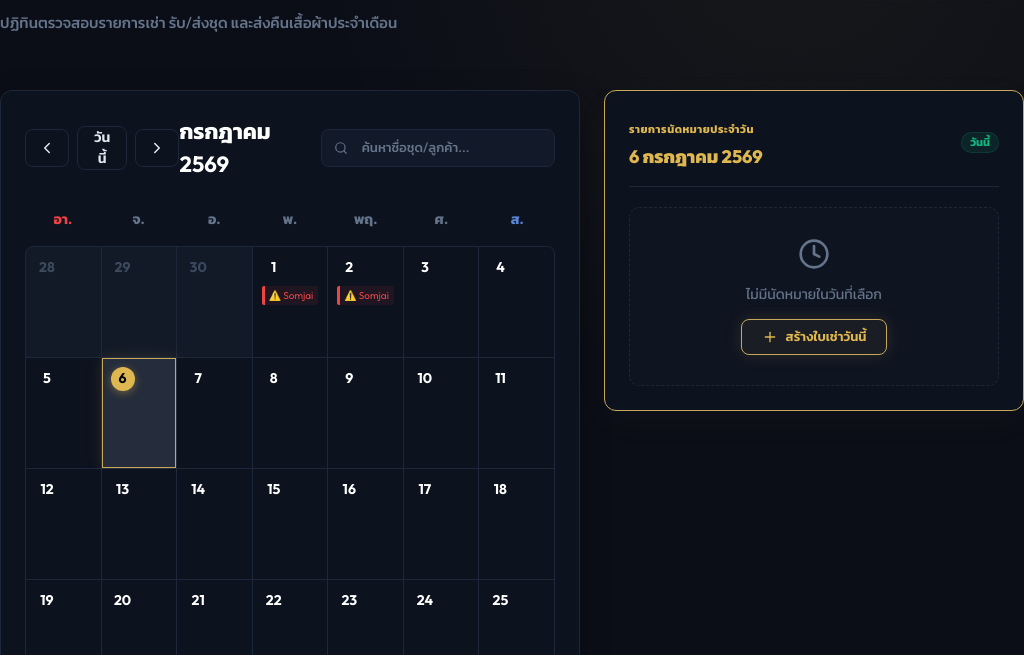
Scenario: CalendarPage › shows the overdue summary in the day detail panel
The width and height of the screenshot is (1024, 655).
Click the button "2 ⚠️ Somjai" at coordinates (366, 302), box [328,247,403,357]
(page scrolled)
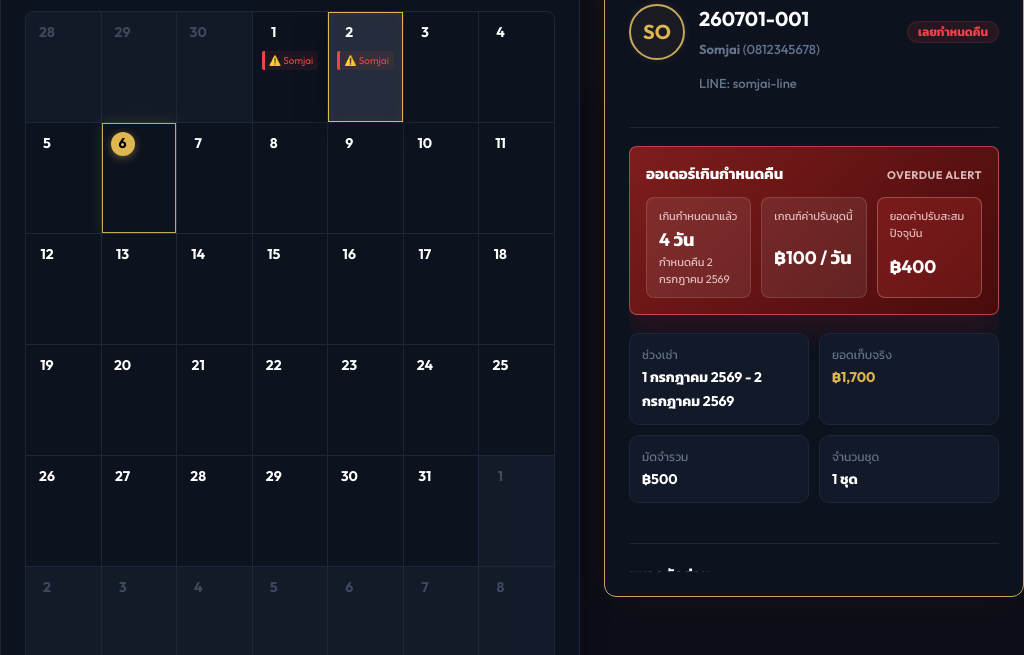
Expected: the text "ออเดอร์เกินกำหนดคืน" is shown, [646,163,783,185]
Expected: the text "4 วัน" is shown, [659,228,694,251]
Expected: the text "฿100 / วัน" is shown, [774,246,852,269]
